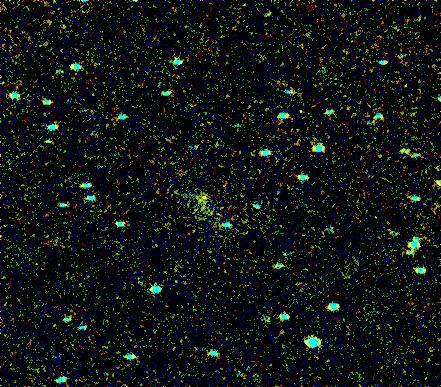star: (190, 179, 220, 209)
